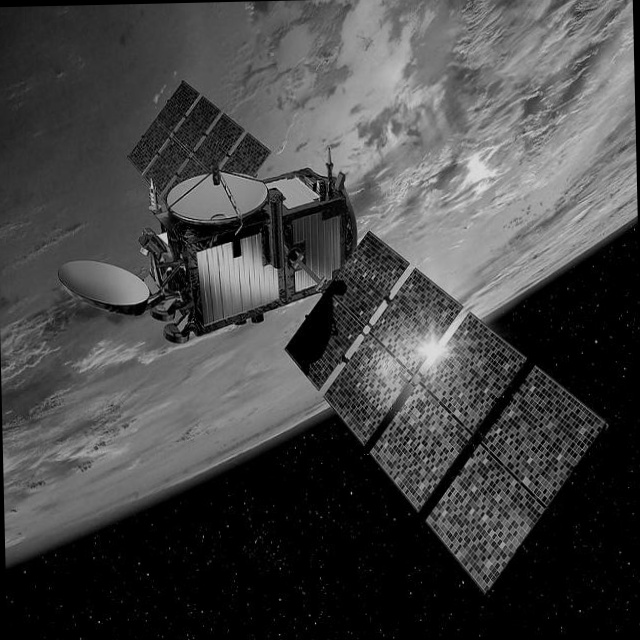satellite: (36, 66, 621, 620)
